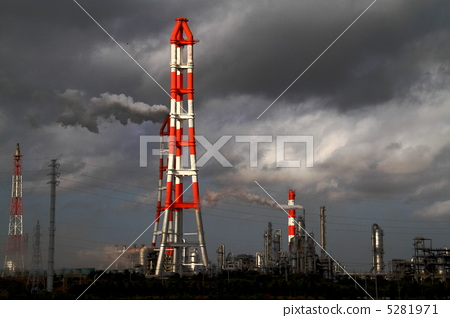dust: (60, 79, 183, 134), (231, 184, 309, 215)
